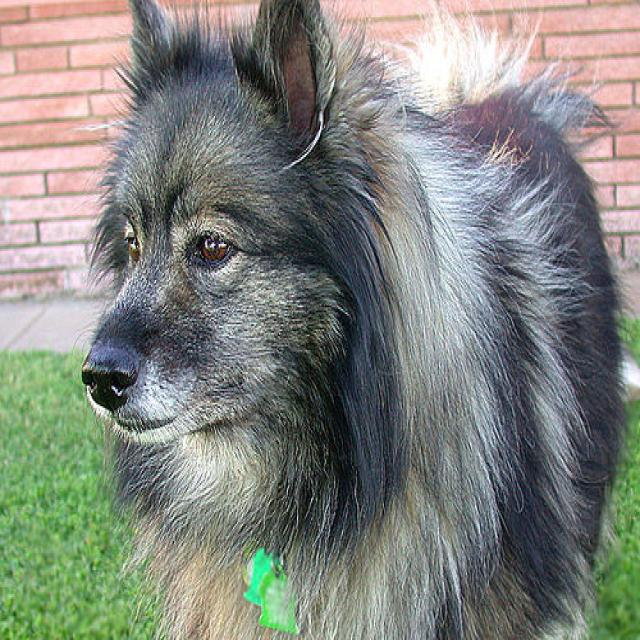dog-keeshond: (73, 2, 634, 637)
